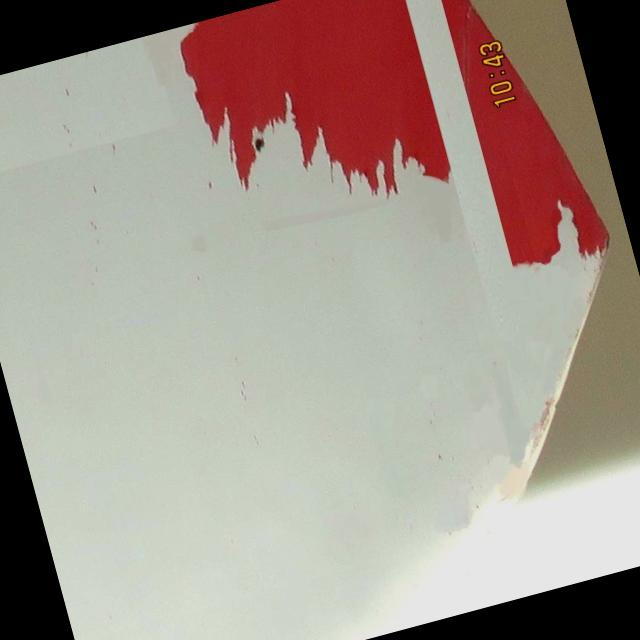surface_peeling: (169, 0, 462, 241), (426, 0, 615, 282)
